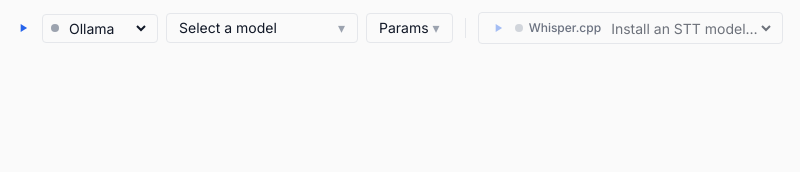
Test: GlobalControls (global header) › choosing a backend switches the global selection and the server control
The width and height of the screenshot is (800, 172).
Select "llama.cpp" in the dropdown with test id "header-backend-select" at (107, 28), box [65,18,149,38]
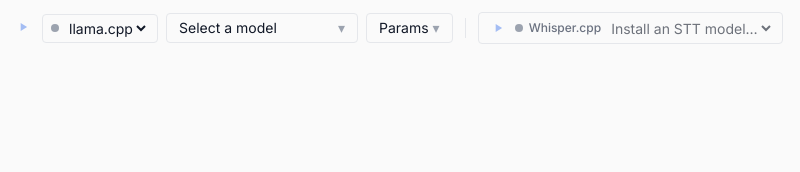
expect the button with test id "llama-start" is shown: met, box [12,16,34,38]
expect the button with test id "ollama-start" is gone: met
